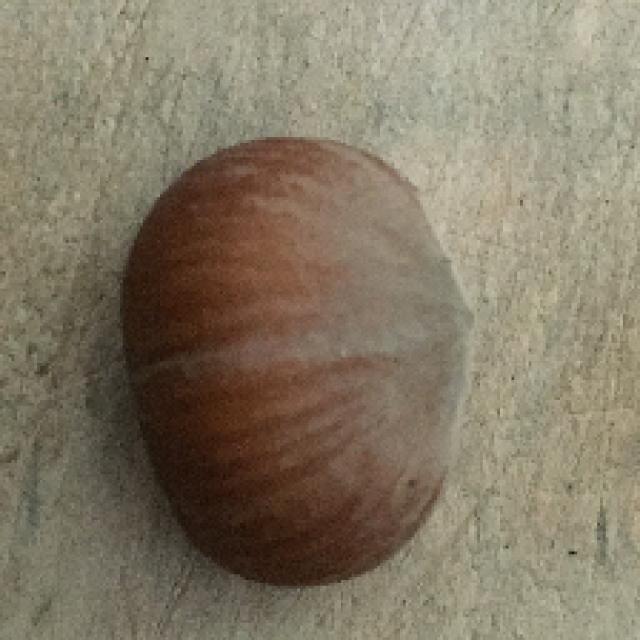qualityHazelnut: (112, 119, 470, 585)
